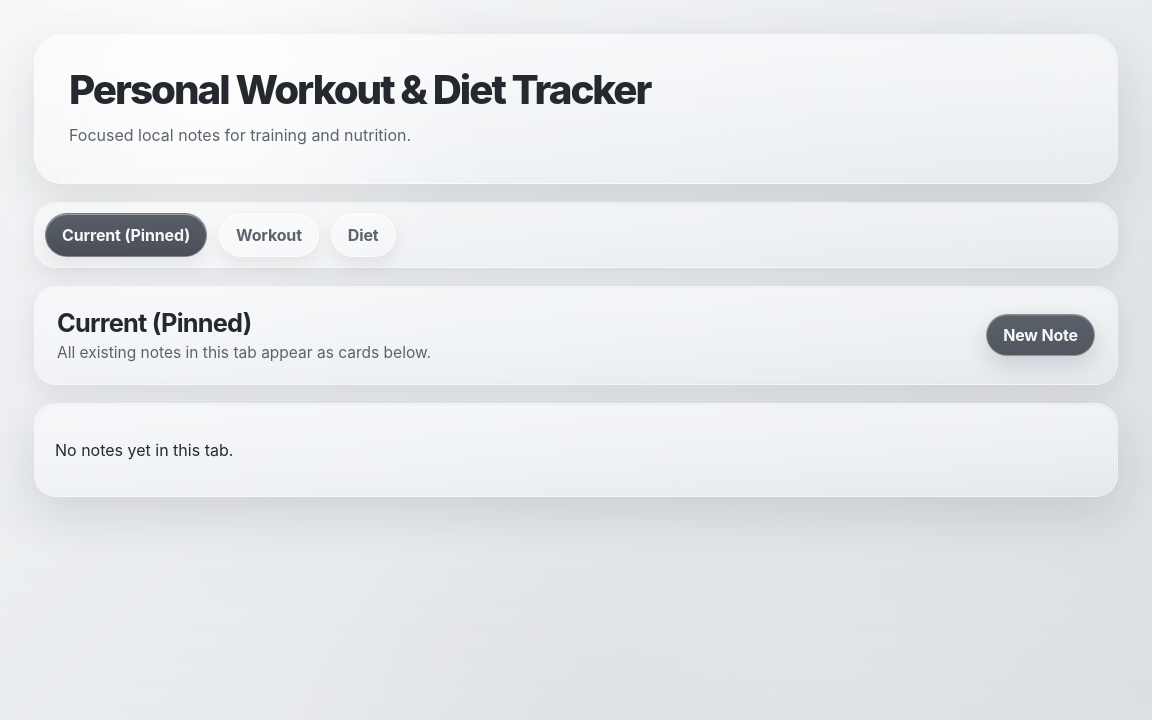
NotesApp › opens the same modal pre-filled when editing
Click the button "Workout" at (269, 234), box [219, 212, 319, 256]
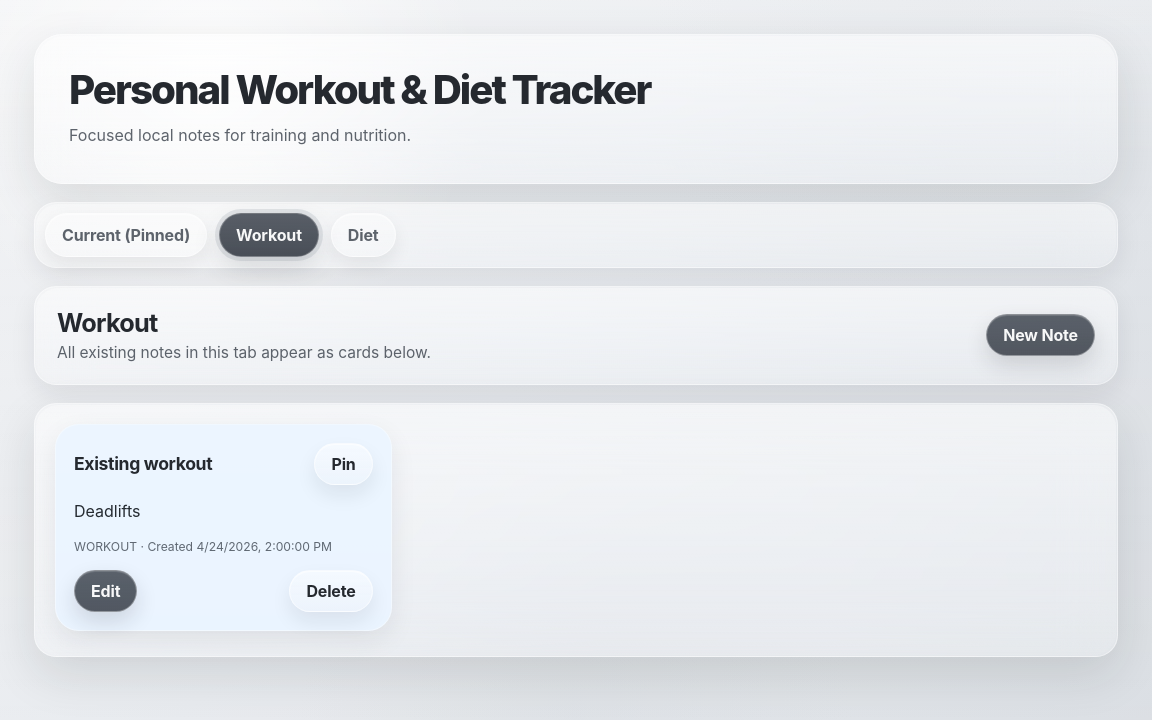
Click the button "Edit" at (106, 591), box [74, 570, 137, 612]
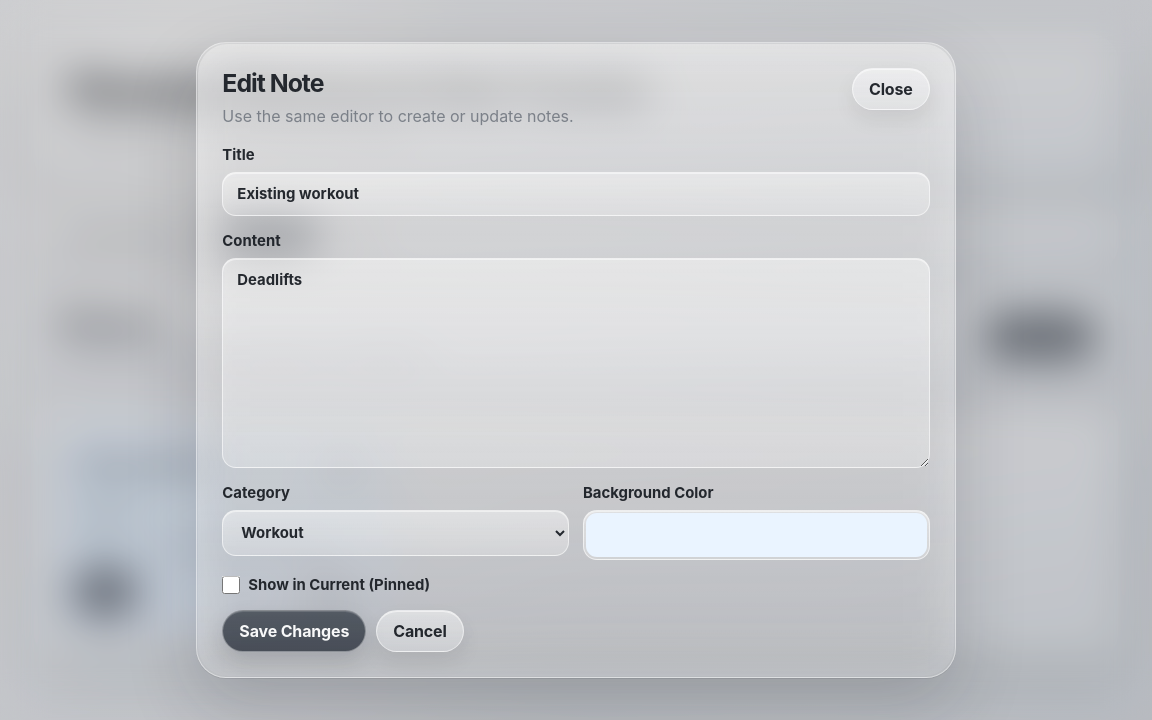
Expected: the dialog is shown, [196, 42, 956, 678]
Expected: the field showing "Existing workout" is shown, [222, 172, 930, 216]
Expected: the text box showing "Deadlifts" is shown, [222, 258, 930, 468]
